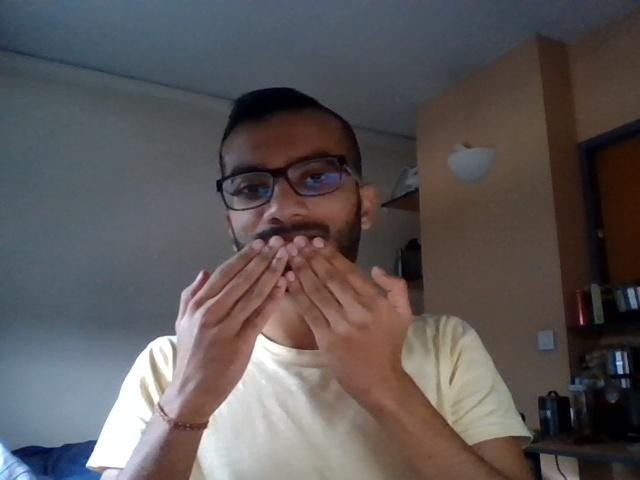Thanks: (157, 227, 424, 388)
